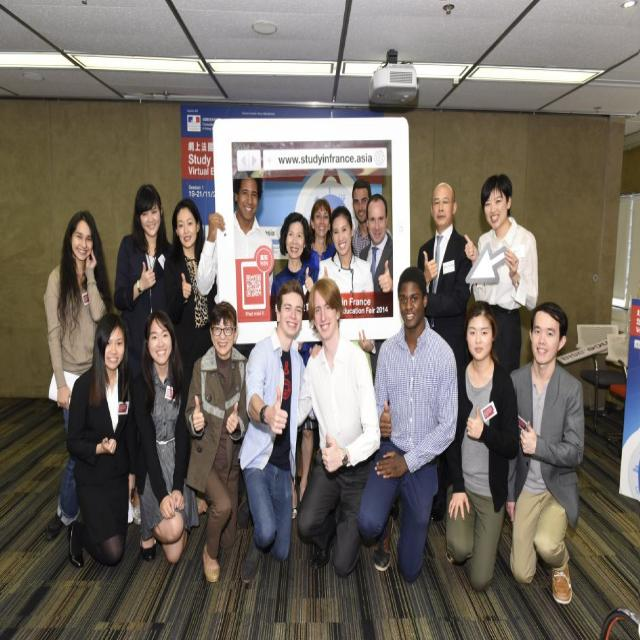body: (354, 261, 461, 587), (235, 276, 324, 585), (501, 296, 588, 610), (294, 276, 382, 580), (41, 205, 113, 546), (442, 296, 522, 595), (63, 309, 139, 571), (130, 305, 202, 567), (183, 300, 248, 585), (462, 171, 540, 375), (195, 170, 275, 360), (112, 181, 177, 384), (316, 204, 378, 384), (416, 181, 474, 356), (163, 196, 220, 370), (269, 210, 321, 322), (350, 177, 394, 260), (357, 192, 393, 293), (308, 196, 338, 262)
